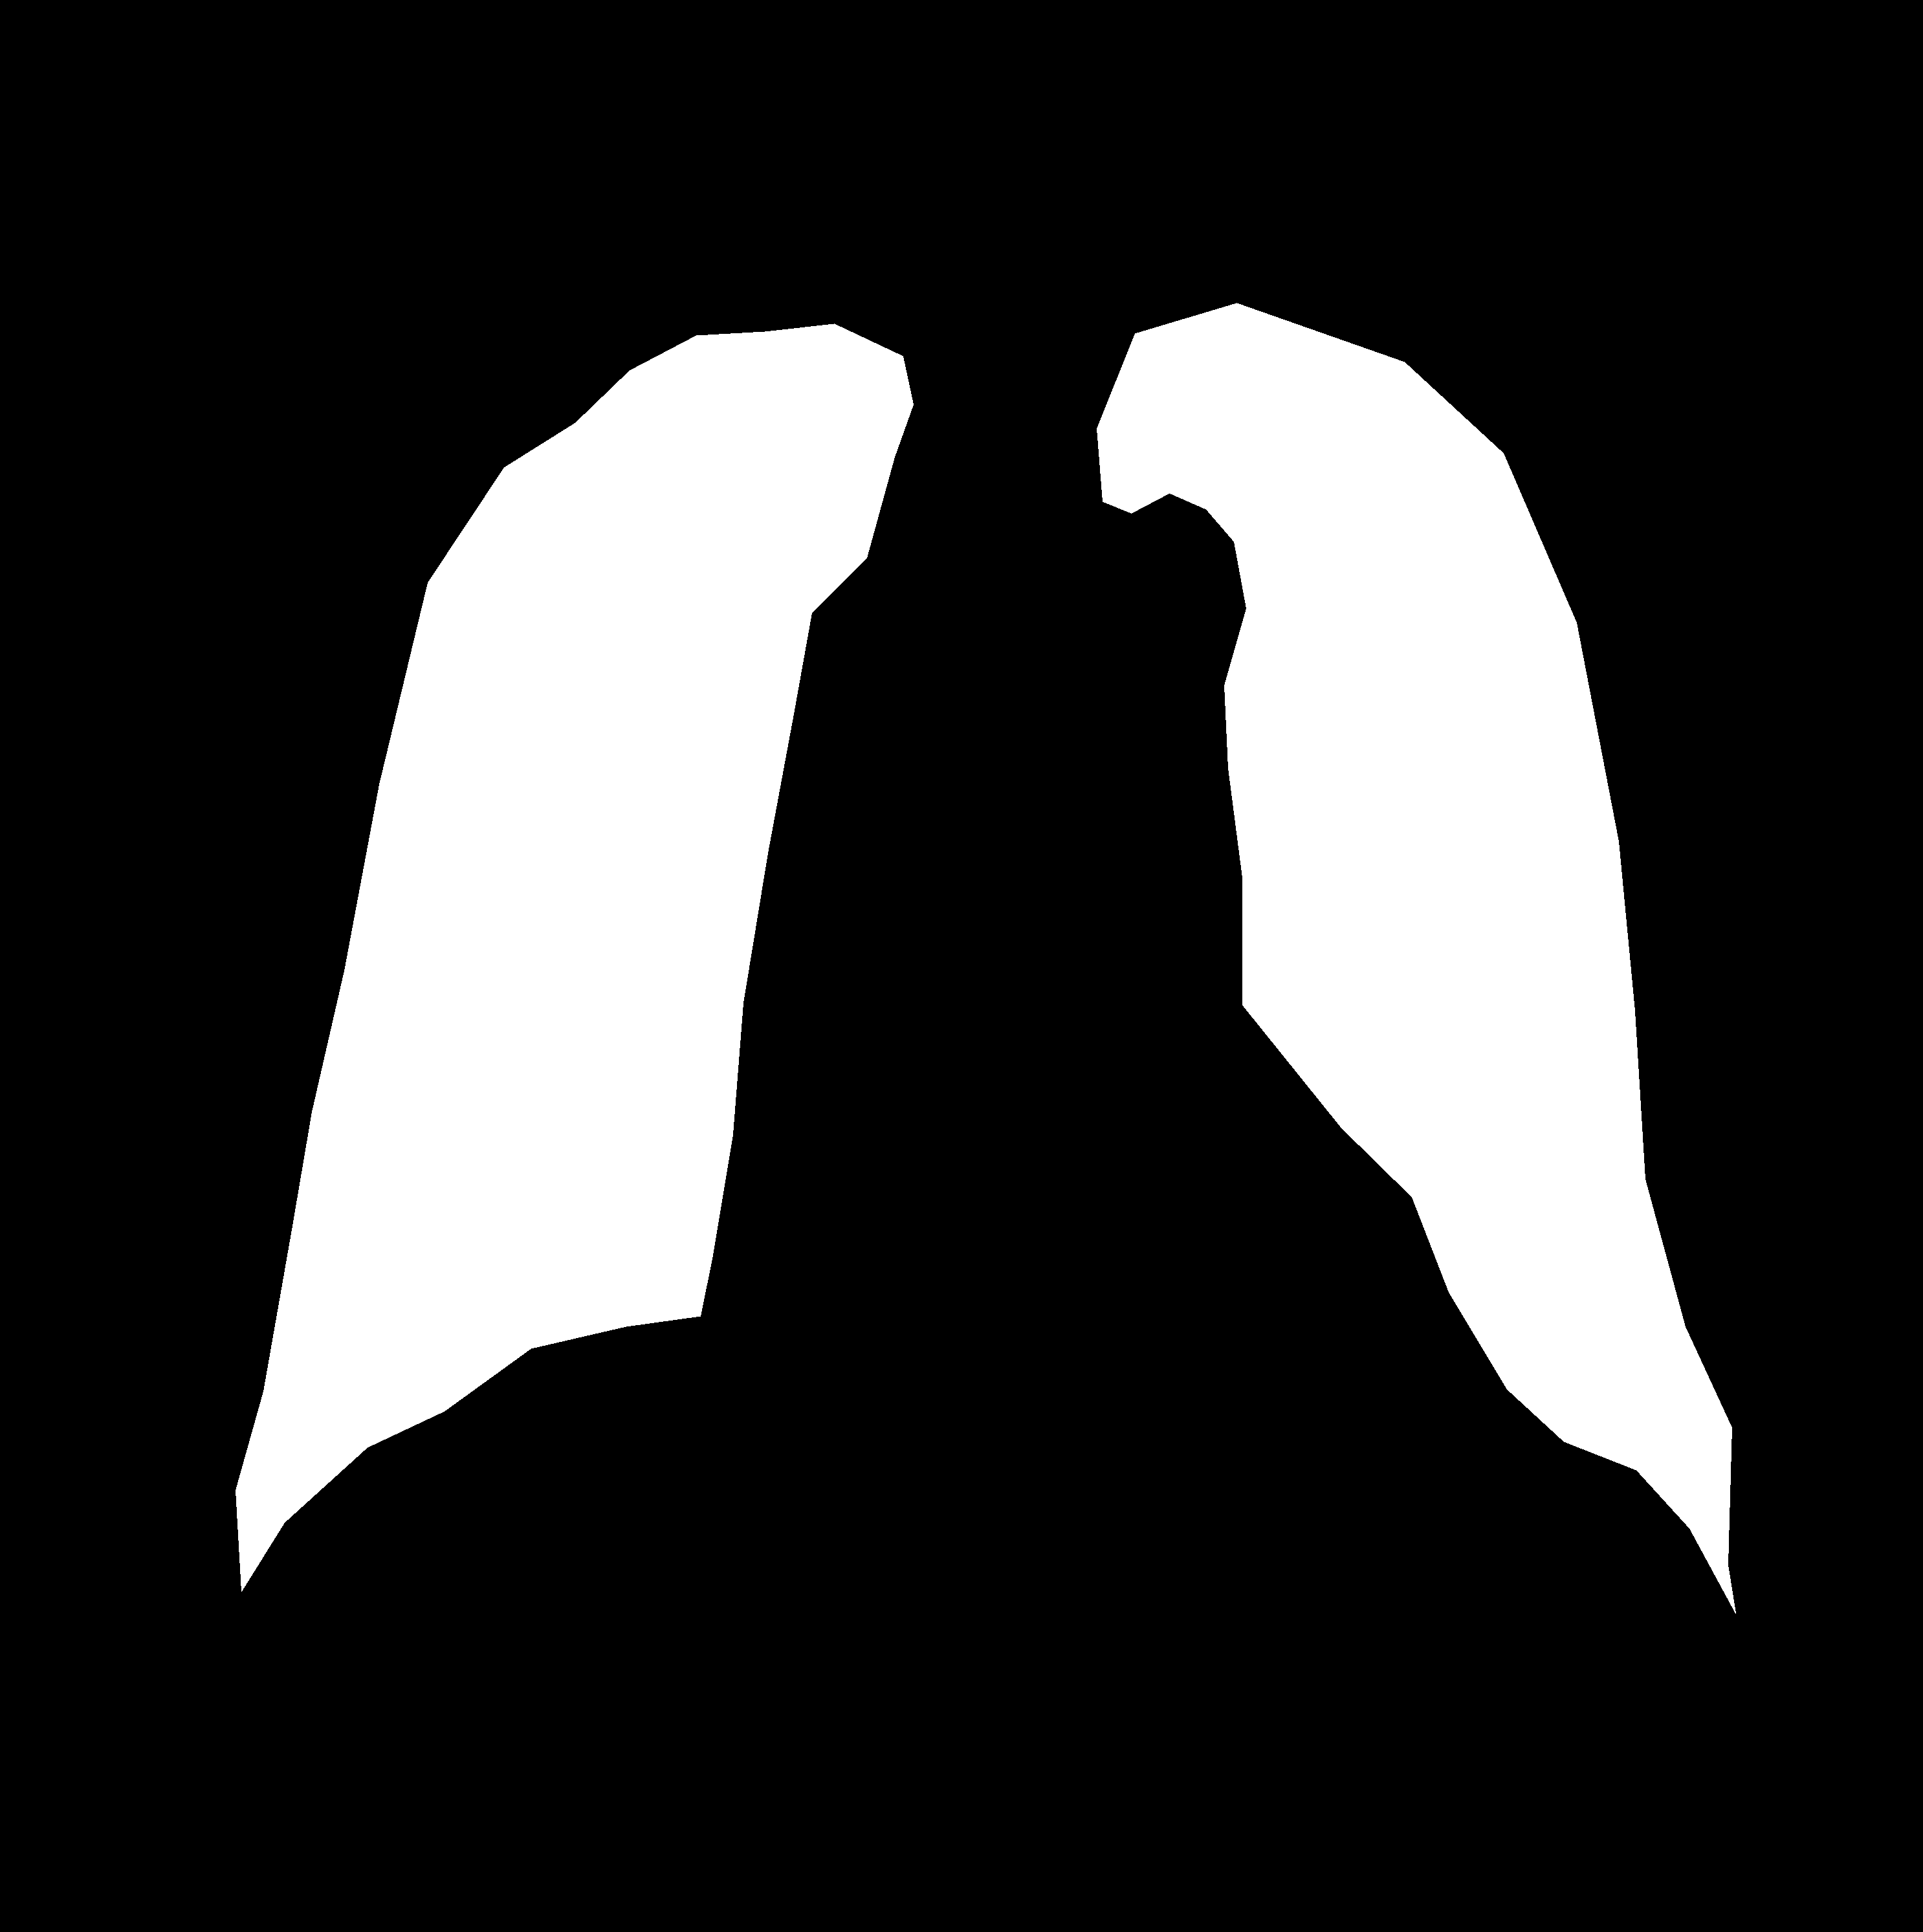heart: (713, 780, 1495, 1455)
left_lung: (236, 324, 912, 1590)
right_lung: (1097, 303, 1735, 1613)
